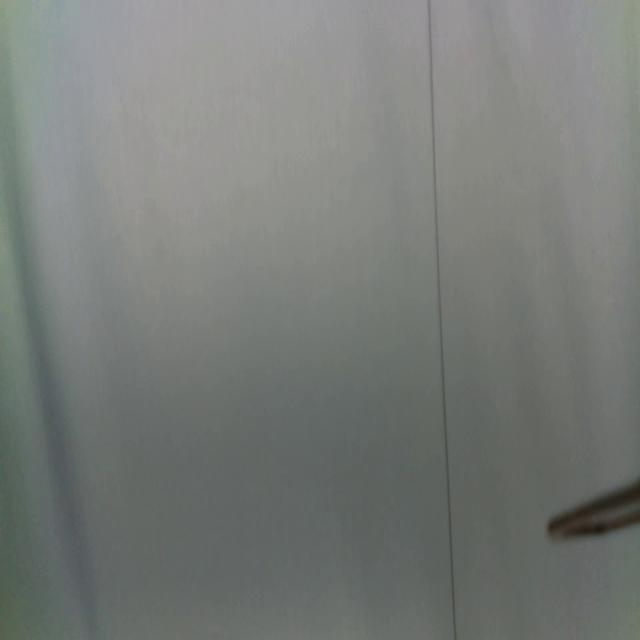crease: (426, 0, 458, 640)
